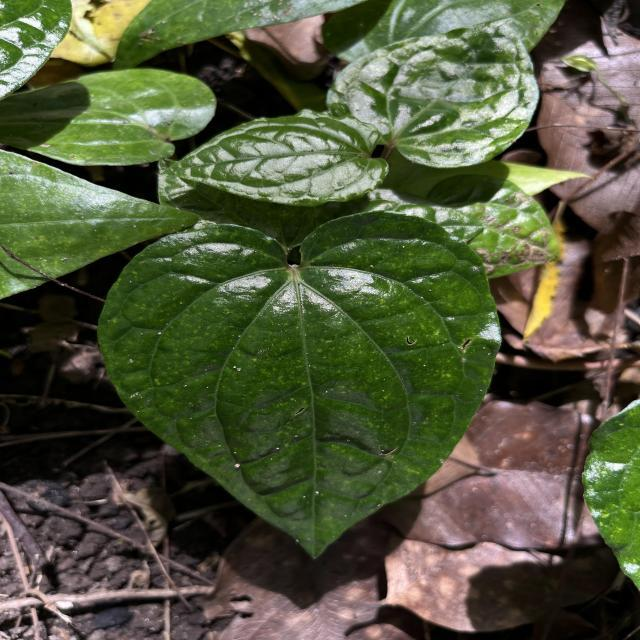Piper betle: (91, 206, 508, 564)
